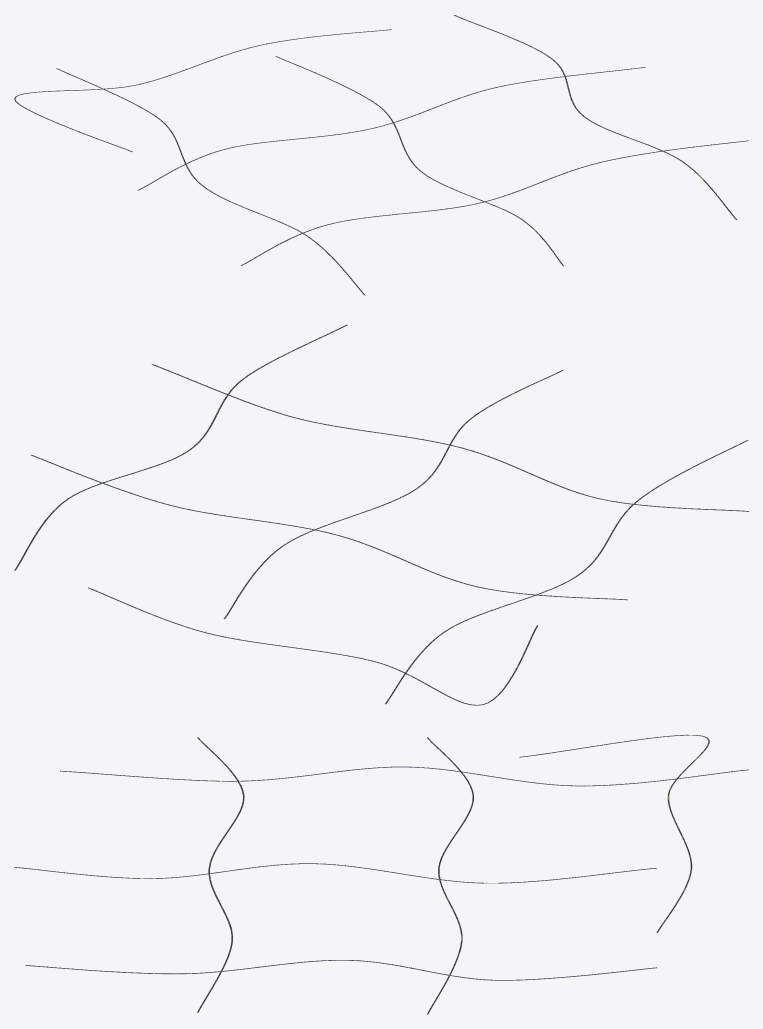
File: roads_ring2_c182.glb
The picture shows the model from 3 angles, top to bottom: view 1: azimuth 30°, elevation 25°; view 2: azimuth 150°, elevation 25°; view 3: azimuth 270°, elevation 25°; orthographic projection. The views are drawn at different scales.
Parts seen in each view (by area): view 1: roads_ring0_sidewalk_curbs, r2c12_01_van_thanh_northwest_ankroet_south_suoi_vang_bouleva, r2c12_02_thung_lung_vang_south_ankroet_hydro_pink_grass_road, r2c12_03_suoi_vang_southwest_lonely_pine_suoi_can_south_loop, r2c12_06_suoi_vang_west_shore_ta_nung_northeast_pine_corrido, r2c12_05_dankia_south_thung_lung_vang_van_thanh_west_avenue, r2c12_04_ankroet_dam_ta_nung_pass_north_cam_ly_ridge_connect; view 2: roads_ring0_sidewalk_curbs, r2c12_01_van_thanh_northwest_ankroet_south_suoi_vang_bouleva, r2c12_02_thung_lung_vang_south_ankroet_hydro_pink_grass_road, r2c12_03_suoi_vang_southwest_lonely_pine_suoi_can_south_loop, r2c12_06_suoi_vang_west_shore_ta_nung_northeast_pine_corrido, r2c12_05_dankia_south_thung_lung_vang_van_thanh_west_avenue; view 3: roads_ring0_sidewalk_curbs, r2c12_06_suoi_vang_west_shore_ta_nung_northeast_pine_corrido, r2c12_05_dankia_south_thung_lung_vang_van_thanh_west_avenue, r2c12_04_ankroet_dam_ta_nung_pass_north_cam_ly_ridge_connect, r2c12_03_suoi_vang_southwest_lonely_pine_suoi_can_south_loop, r2c12_01_van_thanh_northwest_ankroet_south_suoi_vang_bouleva, r2c12_02_thung_lung_vang_south_ankroet_hydro_pink_grass_road.
Boxes of the visible parts, x1,y1,x2,y2 form: roads_ring0_sidewalk_curbs: [14, 15, 747, 295]; r2c12_01_van_thanh_northwest_ankroet_south_suoi_vang_bouleva: [241, 140, 748, 265]; r2c12_02_thung_lung_vang_south_ankroet_hydro_pink_grass_road: [138, 67, 645, 190]; r2c12_03_suoi_vang_southwest_lonely_pine_suoi_can_south_loop: [14, 29, 391, 151]; r2c12_06_suoi_vang_west_shore_ta_nung_northeast_pine_corrido: [56, 68, 364, 294]; r2c12_05_dankia_south_thung_lung_vang_van_thanh_west_avenue: [454, 15, 736, 219]; r2c12_04_ankroet_dam_ta_nung_pass_north_cam_ly_ridge_connect: [276, 56, 563, 266]; roads_ring0_sidewalk_curbs: [16, 325, 748, 705]; r2c12_01_van_thanh_northwest_ankroet_south_suoi_vang_bouleva: [152, 364, 748, 511]; r2c12_02_thung_lung_vang_south_ankroet_hydro_pink_grass_road: [31, 455, 627, 599]; r2c12_03_suoi_vang_southwest_lonely_pine_suoi_can_south_loop: [88, 587, 537, 705]; r2c12_06_suoi_vang_west_shore_ta_nung_northeast_pine_corrido: [385, 440, 748, 704]; r2c12_05_dankia_south_thung_lung_vang_van_thanh_west_avenue: [14, 324, 346, 570]; roads_ring0_sidewalk_curbs: [16, 734, 748, 1014]; r2c12_06_suoi_vang_west_shore_ta_nung_northeast_pine_corrido: [60, 766, 748, 786]; r2c12_05_dankia_south_thung_lung_vang_van_thanh_west_avenue: [25, 960, 656, 980]; r2c12_04_ankroet_dam_ta_nung_pass_north_cam_ly_ridge_connect: [14, 863, 656, 883]; r2c12_03_suoi_vang_southwest_lonely_pine_suoi_can_south_loop: [519, 735, 709, 932]; r2c12_01_van_thanh_northwest_ankroet_south_suoi_vang_bouleva: [197, 737, 244, 1012]; r2c12_02_thung_lung_vang_south_ankroet_hydro_pink_grass_road: [427, 737, 473, 1014].
Bounding box in the file's own units: 5731 × 46.16 × 6403.
